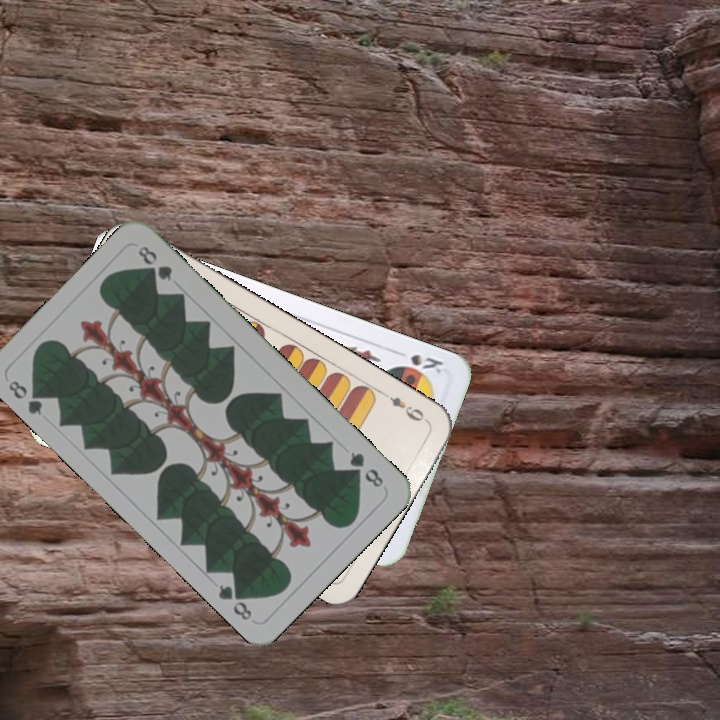E9: (385, 392, 431, 425)
G8: (4, 376, 49, 418), (345, 447, 387, 490)
SK: (406, 350, 446, 377)
